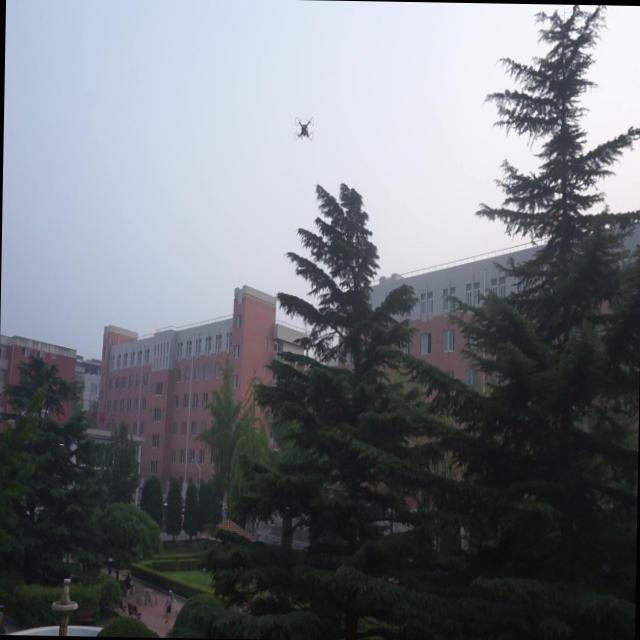drone: (290, 112, 315, 144)
